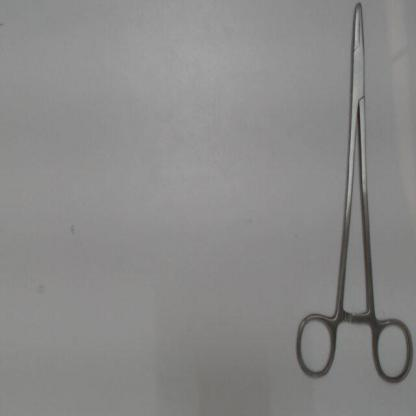8 Mayo Needle Holder: (288, 0, 415, 392)
